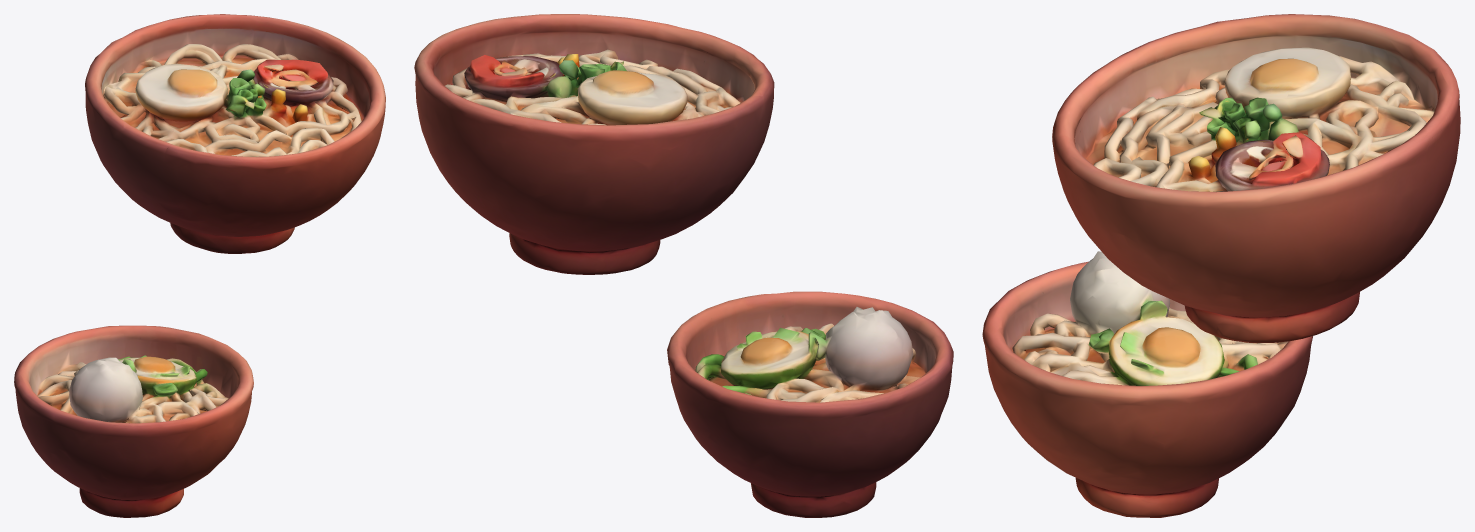
Rendered from ramen bowl 3d model.glb.
The picture shows the model from 3 angles, left to right: view 1: azimuth 30°, elevation 25°; view 2: azimuth 150°, elevation 25°; view 3: azimuth 270°, elevation 25°; orthographic projection. The views are drawn at different scales.
Visible parts, largest first — view 1: tripo_node_f43968c8-93fb-415d-a389-c6357f40a5aa; view 2: tripo_node_f43968c8-93fb-415d-a389-c6357f40a5aa; view 3: tripo_node_f43968c8-93fb-415d-a389-c6357f40a5aa.
Part boxes in pixels (<box>): tripo_node_f43968c8-93fb-415d-a389-c6357f40a5aa: <box>14,14,385,517</box>; tripo_node_f43968c8-93fb-415d-a389-c6357f40a5aa: <box>414,14,953,517</box>; tripo_node_f43968c8-93fb-415d-a389-c6357f40a5aa: <box>982,14,1460,517</box>.
Bounding box in the file's own units: 1 × 0.919 × 0.7952.
Materials: 1 (1 with a texture image).
